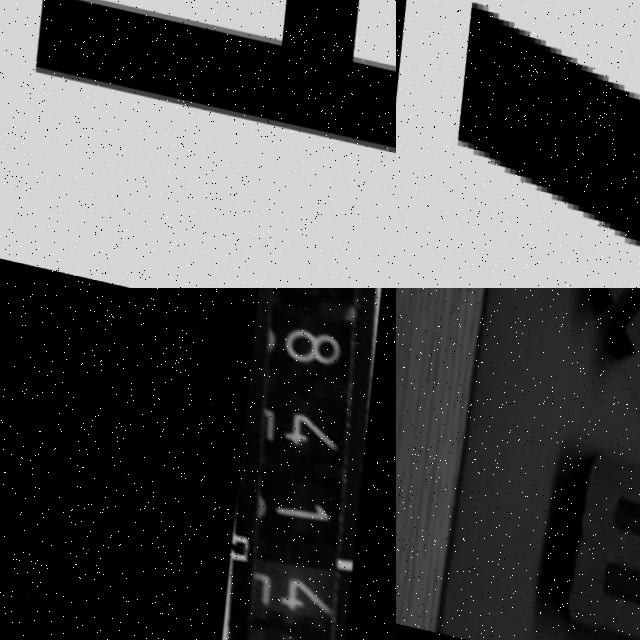1: (263, 488, 328, 525)
4: (266, 567, 333, 618), (274, 404, 343, 451)
8: (276, 317, 343, 367)
H: (5, 0, 396, 191)
I: (452, 0, 640, 252)
W: (535, 433, 640, 640)
